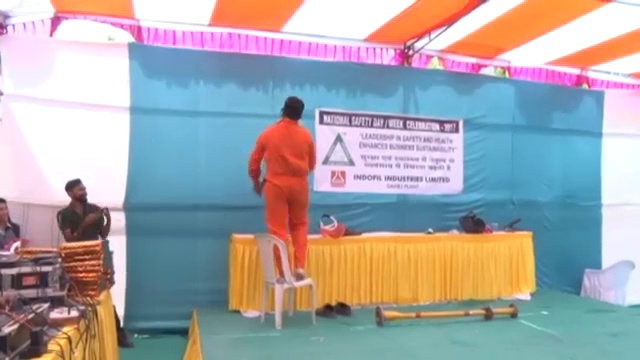helmet_off: (281, 95, 305, 124), (63, 178, 88, 204), (1, 196, 11, 226)
person: (249, 94, 317, 279), (54, 178, 113, 242)
